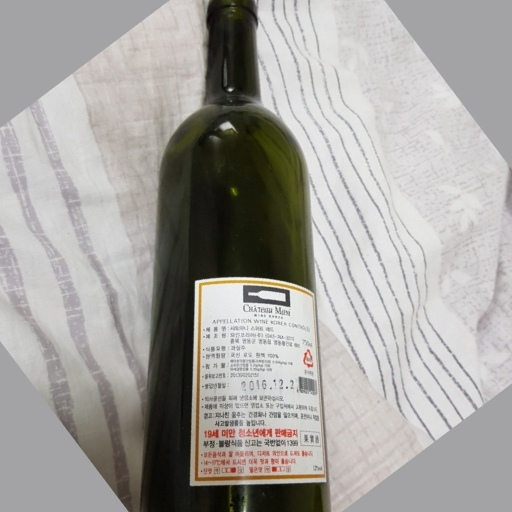Glass_2: (150, 1, 321, 512)
